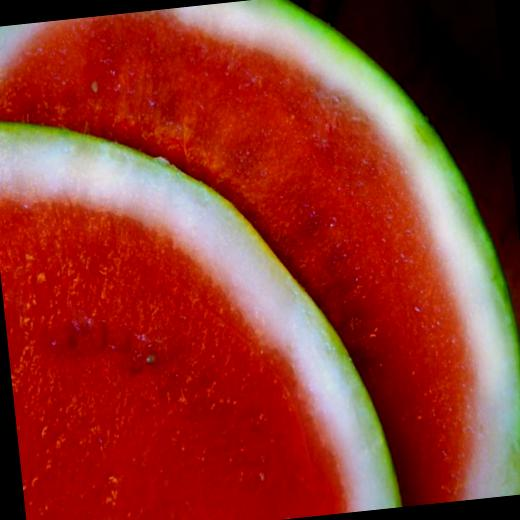Cherry: (0, 0, 520, 520), (0, 79, 401, 520)
